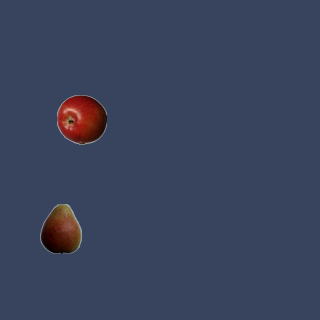Apple Braeburn: (56, 94, 106, 144)
Pear Forelle: (35, 203, 85, 253)
